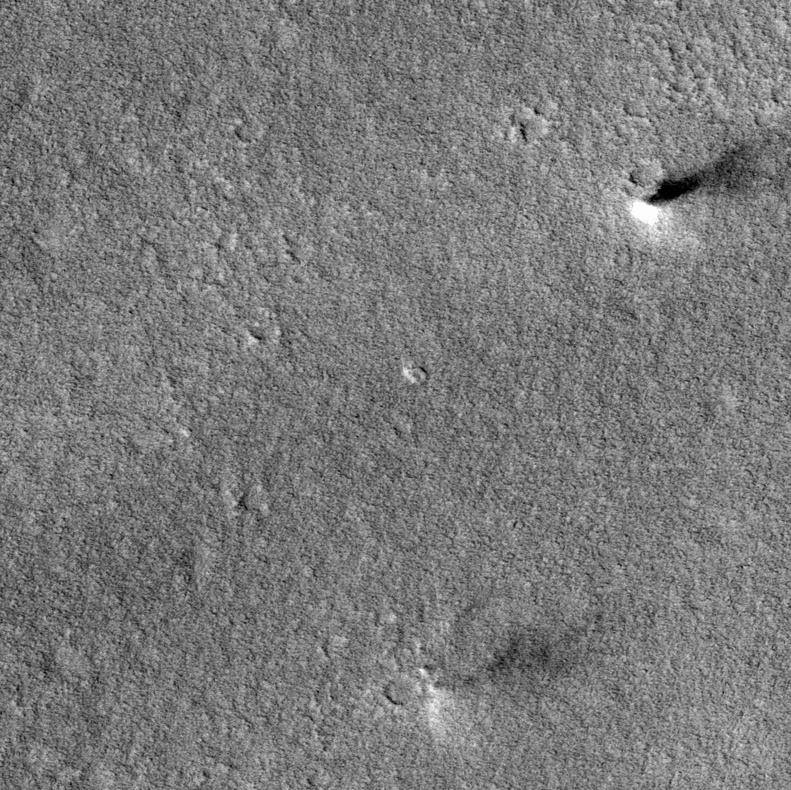dust_devil: (413, 624, 591, 746), (625, 137, 765, 228)
